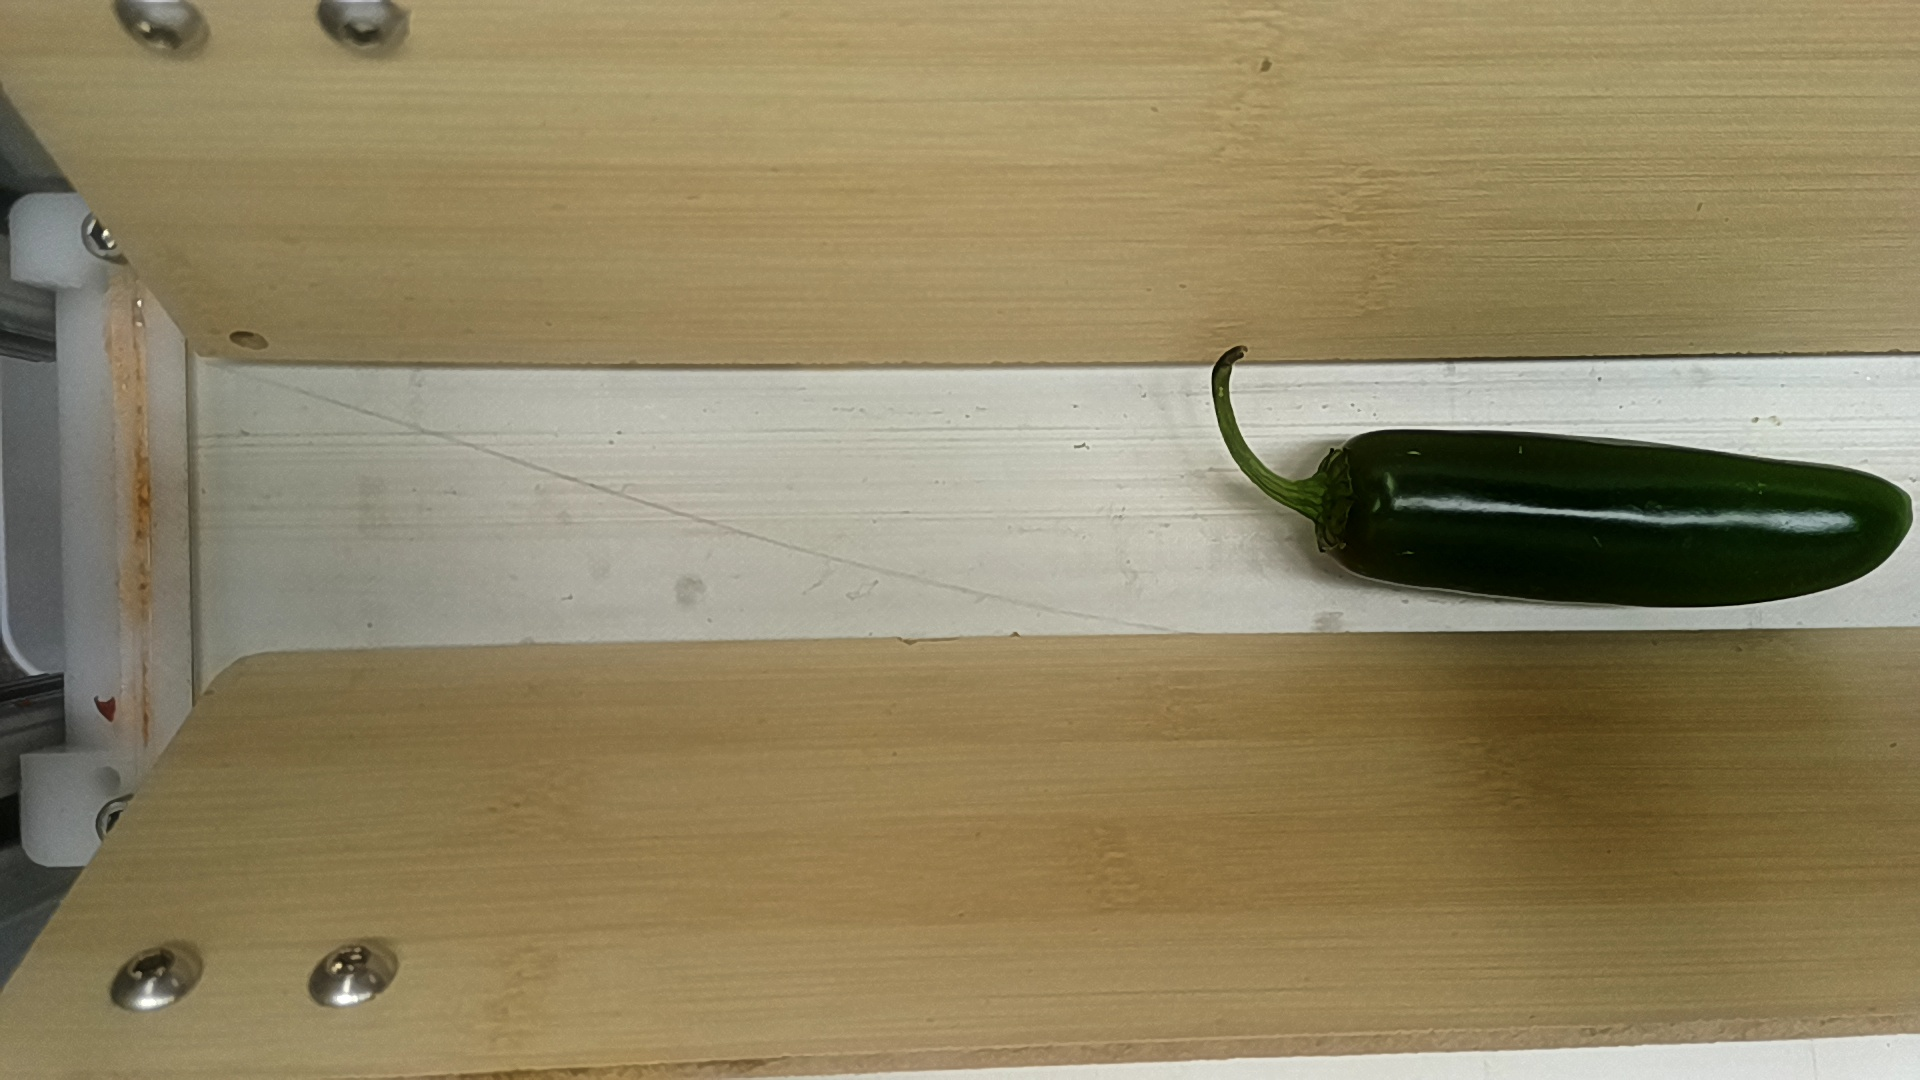Cut Point: (1300, 418, 1387, 588)
